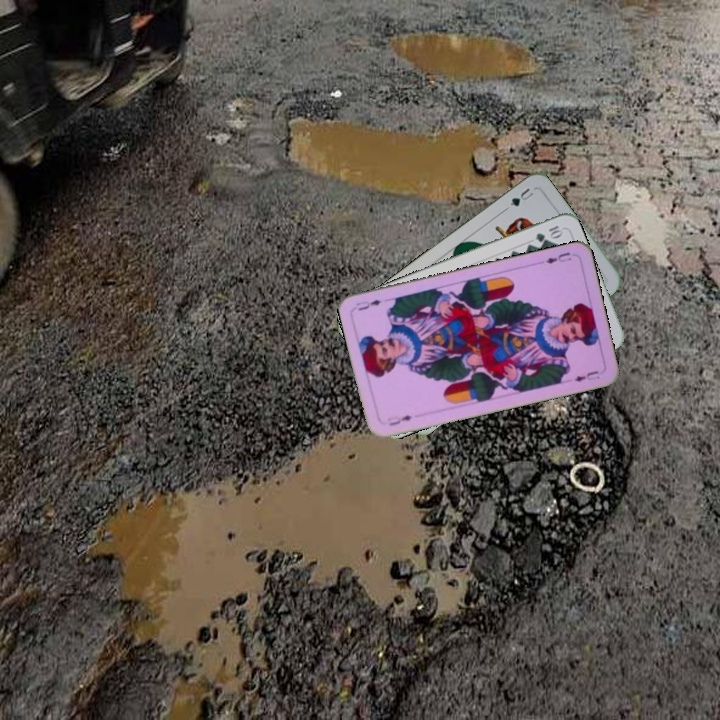EU: (541, 248, 574, 266), (383, 411, 415, 428)
G10: (531, 221, 565, 245)
GU: (506, 184, 537, 209)
